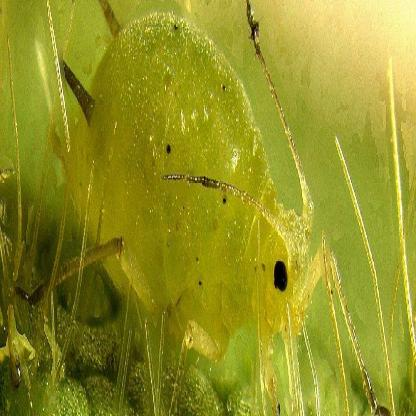aphid: (38, 4, 387, 416)
